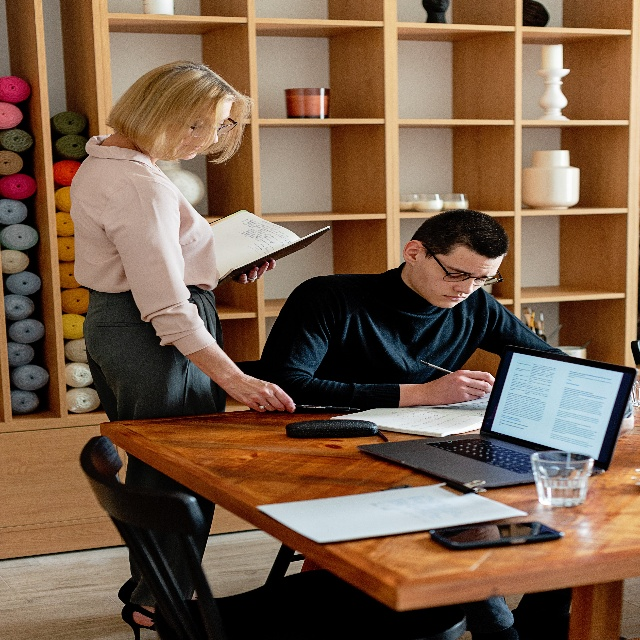Gafas: (444, 268, 501, 289), (190, 118, 234, 135)
Sin_guantes: (228, 373, 295, 413), (424, 368, 494, 404), (239, 260, 275, 282)
